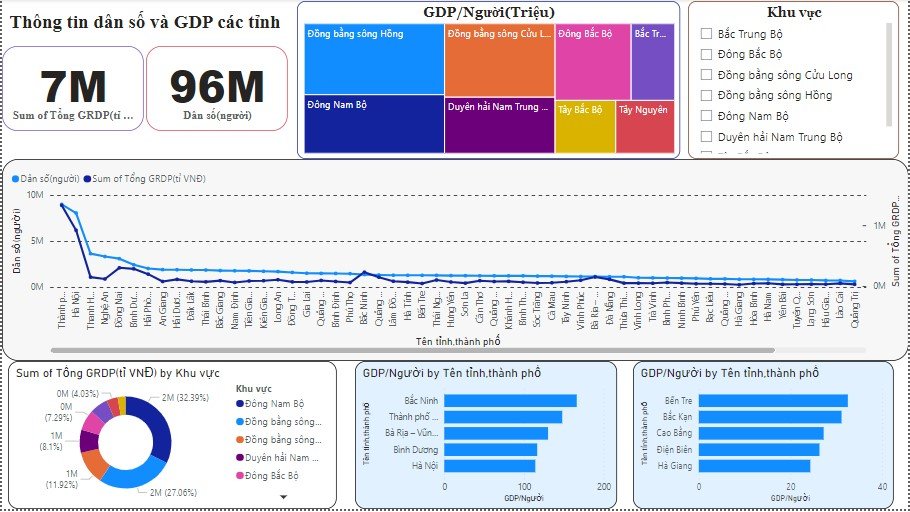

The dashboard page shown, as its layout file describes it:
{"tool":"powerbi","page":{"name":"Page 1","canvas":[1280,720],"ordinal":0},"visuals":[{"type":"card","fields":{"Values":["Sum(Danh sách các tỉnh thành[sửa | sửa mã nguồn].Tổng GRDP(tỉ VNĐ))"]},"box":[0,66.4,200.5,120],"z":0},{"type":"textbox","box":[0,11.3,403.8,52.2],"z":1000},{"type":"card","fields":{"Values":["Sum(Danh sách các tỉnh thành[sửa | sửa mã nguồn].Dân số(người))"]},"box":[203.3,66.4,200.5,120],"z":2000},{"type":"donutChart","fields":{"Category":["Danh sách các tỉnh thành[sửa | sửa mã nguồn].Khu vực"],"Y":["Sum(Danh sách các tỉnh thành[sửa | sửa mã nguồn].Tổng GRDP(tỉ VNĐ))"]},"box":[8.5,511,464.5,208.9],"z":3000},{"type":"lineChart","fields":{"Category":["Danh sách các tỉnh thành[sửa | sửa mã nguồn].Tên tỉnh,thành phố"],"Y":["Sum(Danh sách các tỉnh thành[sửa | sửa mã nguồn].Dân số(người))"],"Y2":["Sum(Danh sách các tỉnh thành[sửa | sửa mã nguồn].Tổng GRDP(tỉ VNĐ))"]},"box":[0,225.9,1280.5,285.2],"z":4000},{"type":"barChart","fields":{"Category":["Danh sách các tỉnh thành[sửa | sửa mã nguồn].Tên tỉnh,thành phố"],"Y":["Sum(Danh sách các tỉnh thành[sửa | sửa mã nguồn].GDP/Người)"]},"box":[498.4,511.1,369.9,208.9],"z":5000},{"type":"barChart","fields":{"Category":["Danh sách các tỉnh thành[sửa | sửa mã nguồn].Tên tỉnh,thành phố"],"Y":["Sum(Danh sách các tỉnh thành[sửa | sửa mã nguồn].GDP/Người)"]},"box":[890.8,511.1,368.5,208.9],"z":6000},{"type":"slicer","title":"Khu vực","fields":{"Values":["Danh sách các tỉnh thành[sửa | sửa mã nguồn].Khu vực"]},"box":[968.5,3,297.9,223.1],"z":7000},{"type":"treemap","title":"GDP/Người(Triệu)","fields":{"Group":["Danh sách các tỉnh thành[sửa | sửa mã nguồn].Khu vực"],"Values":["Sum(Danh sách các tỉnh thành[sửa | sửa mã nguồn].GDP/Người)"]},"box":[416.5,2.8,540.7,223.1],"z":8000}]}

Visuals, with their boxes in screenshot pixels (x1, y1, x2, y2), scaled from the page's 1280x720 canvas onto the 910x512 screenshot:
card - Sum(Danh sách các tỉnh thành[sửa | sửa mã nguồn].Tổng GRDP(tỉ VNĐ)): [left=0, top=47, right=143, bottom=133]
textbox: [left=0, top=8, right=287, bottom=45]
card - Sum(Danh sách các tỉnh thành[sửa | sửa mã nguồn].Dân số(người)): [left=145, top=47, right=287, bottom=133]
donutChart - Danh sách các tỉnh thành[sửa | sửa mã nguồn].Khu vực x Sum(Danh sách các tỉnh thành[sửa | sửa mã nguồn].Tổng GRDP(tỉ VNĐ)): [left=6, top=363, right=336, bottom=511]
lineChart - Danh sách các tỉnh thành[sửa | sửa mã nguồn].Tên tỉnh,thành phố x Sum(Danh sách các tỉnh thành[sửa | sửa mã nguồn].Dân số(người)): [left=0, top=161, right=909, bottom=363]
barChart - Danh sách các tỉnh thành[sửa | sửa mã nguồn].Tên tỉnh,thành phố x Sum(Danh sách các tỉnh thành[sửa | sửa mã nguồn].GDP/Người): [left=354, top=363, right=617, bottom=511]
barChart - Danh sách các tỉnh thành[sửa | sửa mã nguồn].Tên tỉnh,thành phố x Sum(Danh sách các tỉnh thành[sửa | sửa mã nguồn].GDP/Người): [left=633, top=363, right=895, bottom=511]
"Khu vực" slicer: [left=689, top=2, right=900, bottom=161]
"GDP/Người(Triệu)" treemap: [left=296, top=2, right=681, bottom=161]
